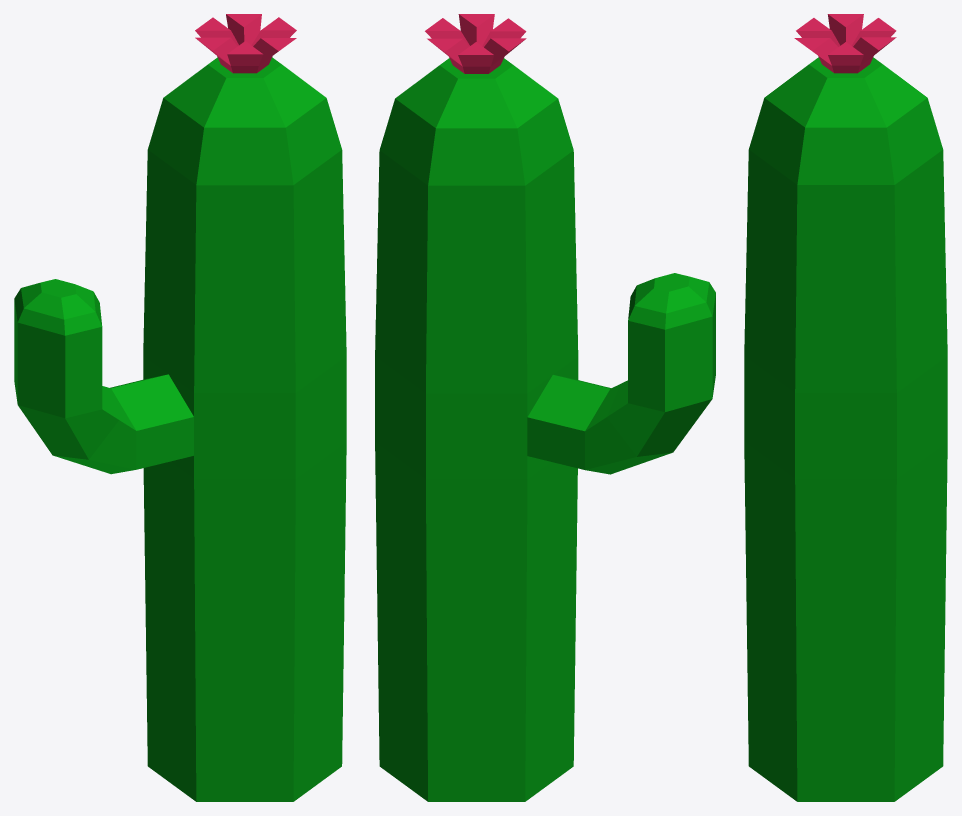
File: Cactus1.fbx
3 renders of one model, left to right at view 1: azimuth 30°, elevation 25°; view 2: azimuth 150°, elevation 25°; view 3: azimuth 270°, elevation 25°, orthographic.
Parts seen in each view (by area): view 1: Cylinder.002; view 2: Cylinder.002; view 3: Cylinder.002.
Boxes of the visible parts, x1,y1,x2,y2 form: Cylinder.002: (14, 14, 346, 801); Cylinder.002: (375, 14, 715, 801); Cylinder.002: (744, 14, 947, 801).
Size of the model in its own units: 105 by 238 by 60.
